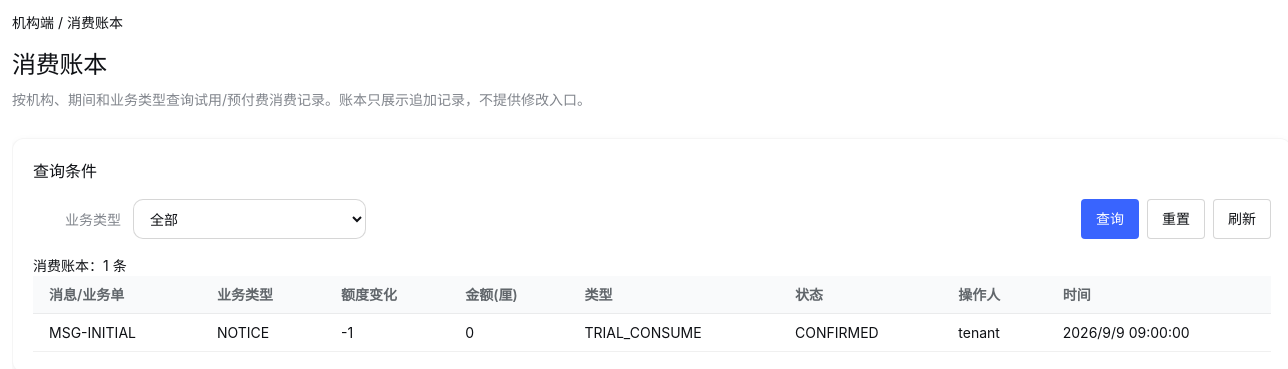
Test: Phase 22 trial prepaid ledger UI › retries a failed ledger query when the submitted filter is unchanged
The width and height of the screenshot is (1288, 369).
Step 1. Select "短信" in the dropdown with test id "tenant-trial-prepaid-consumption-ledger-business-type" → (250, 219), box [133, 199, 366, 239]
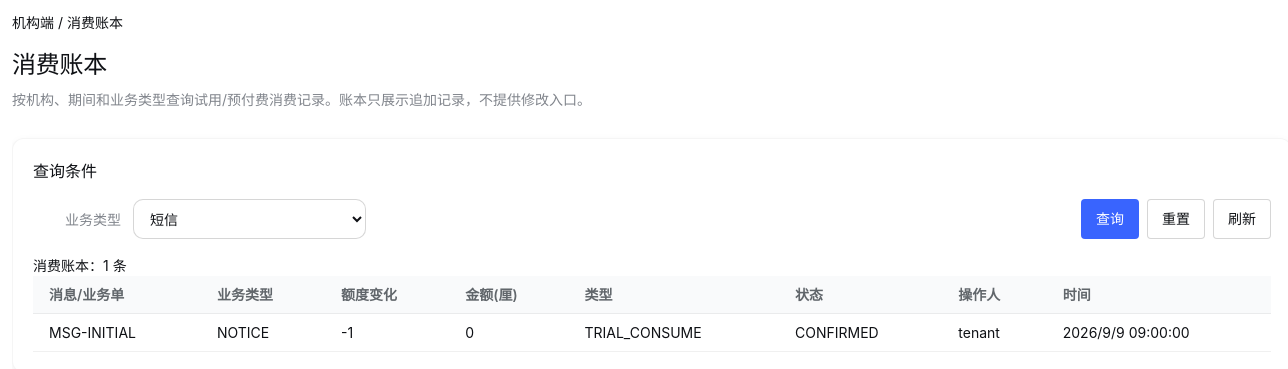
Step 2. Click the button with test id "query-submit" → (1110, 219), box [1081, 199, 1139, 239]
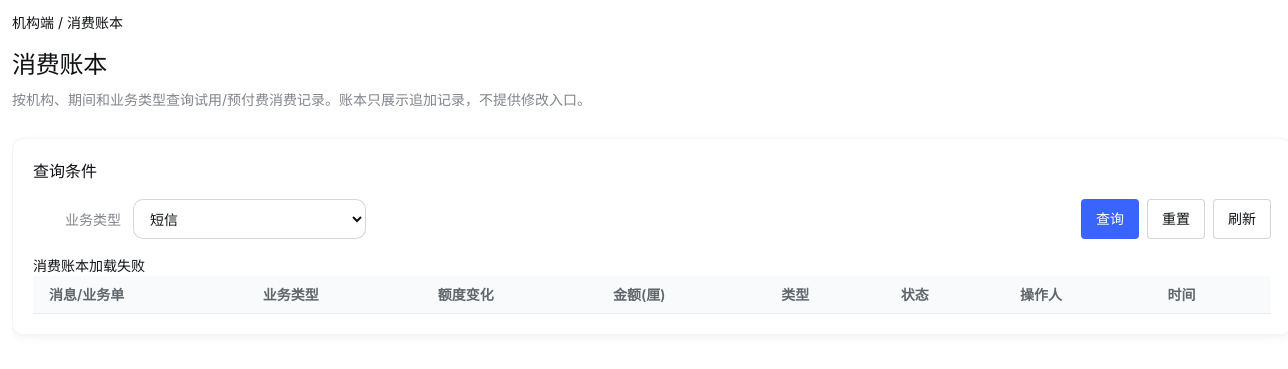
Result: the message with test id "tenant-trial-prepaid-consumption-ledger-query-status" has attribute data-state="error" at [33, 257, 145, 274]
Step 3. Click the button with test id "query-submit" → (1110, 219), box [1081, 199, 1139, 239]
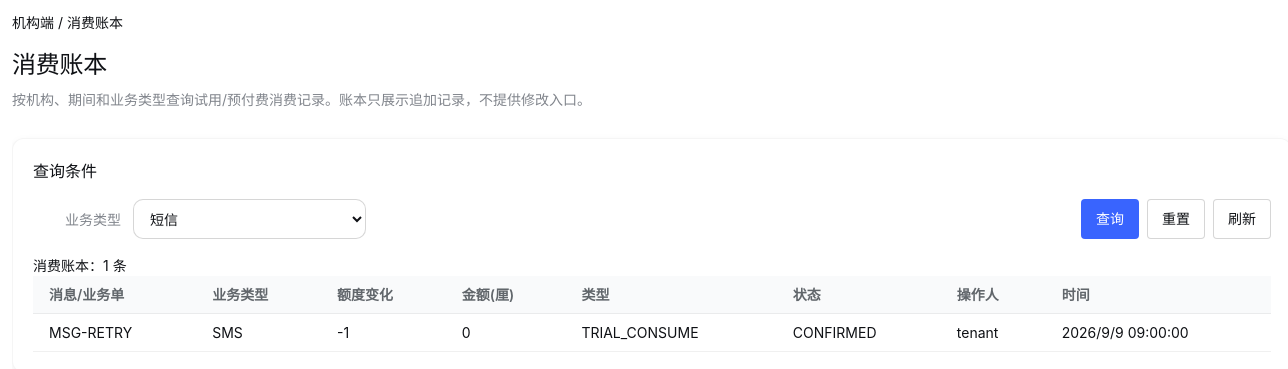
Result: the row with test id "tenant-trial-prepaid-consumption-ledger-row" shows "MSG-RETRY" at [49, 324, 132, 341]
